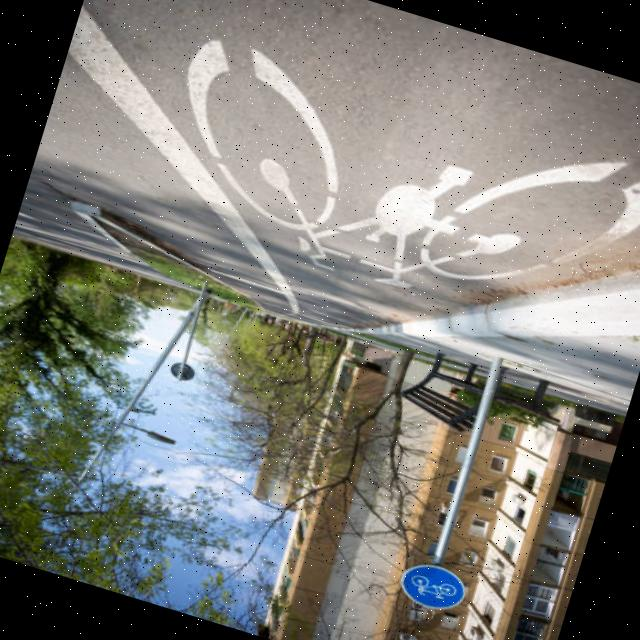bicycle: (380, 544, 485, 627)
